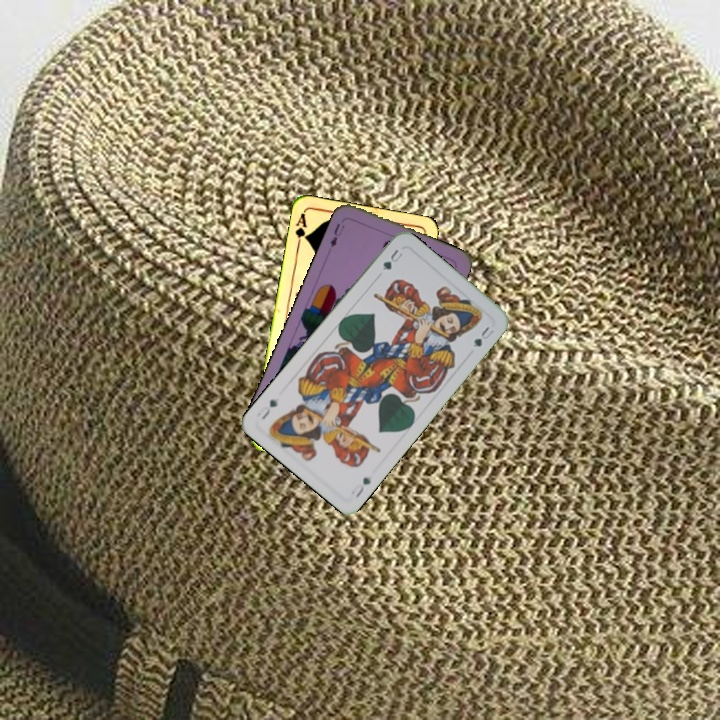EU: (326, 219, 347, 250)
GA: (291, 209, 310, 250)
GU: (378, 245, 407, 273), (346, 473, 373, 501)
